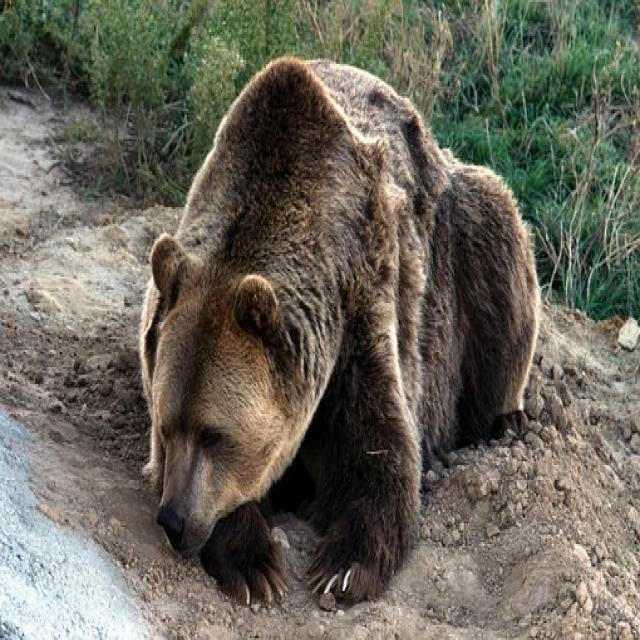Bear: (137, 56, 543, 614)
